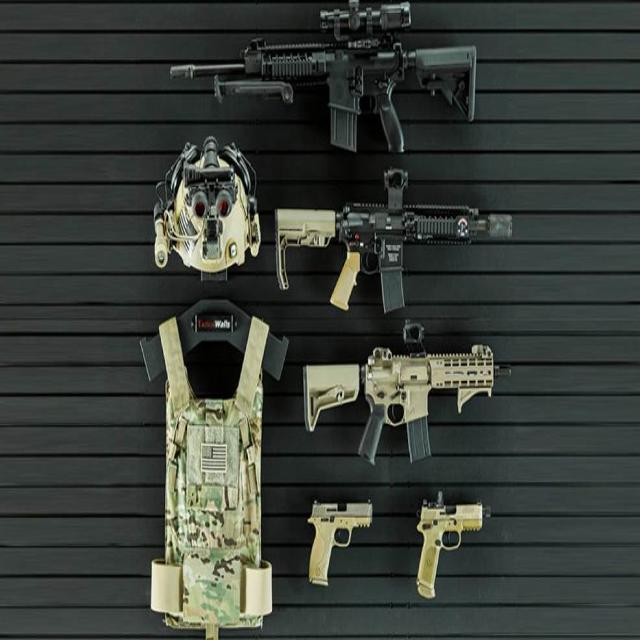HandGun: (416, 491, 491, 599), (307, 499, 372, 588)
Rifle: (170, 0, 475, 153), (276, 170, 513, 317), (303, 324, 495, 466)
